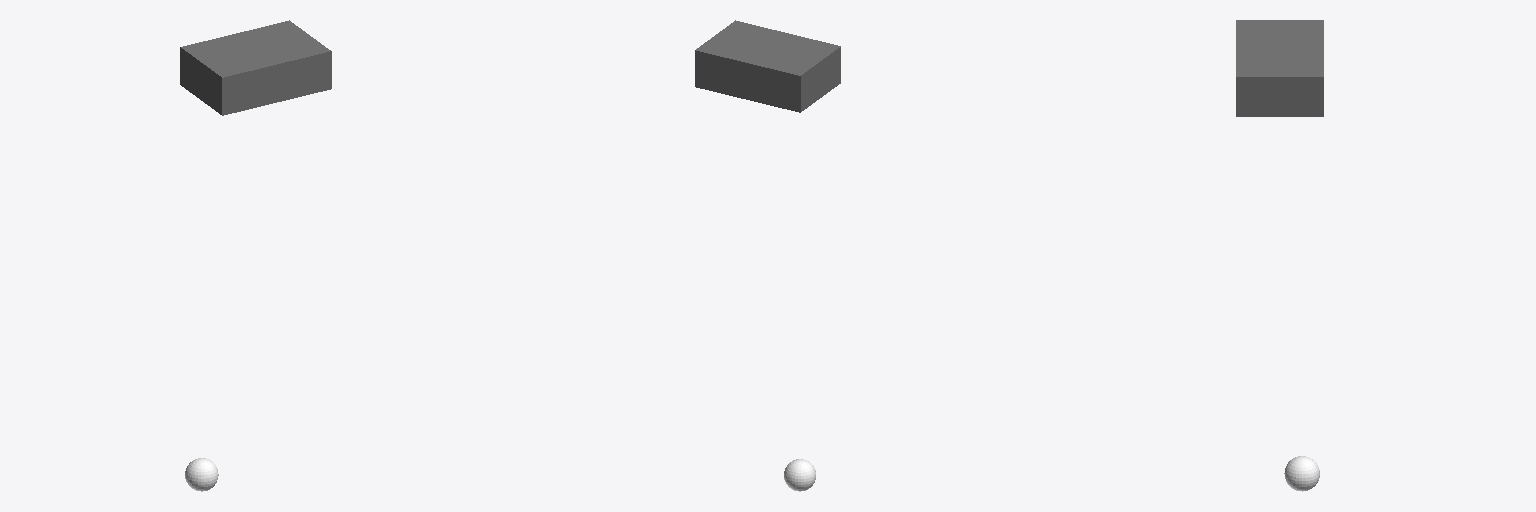
URDF robot description (dummy_bot):
<?xml version="1.0" ?>
<robot name="dummy_bot">
  


  <material name="grey">
                <color rgba="0.5 0.5 0.5 1"/>
  </material>

  <material name="white">
                <color rgba="1 1 1 1"/>
  </material>
  <gazebo>
  <plugin
    filename="libignition-gazebo-diff-drive-system.so"
    name="ignition::gazebo::systems::DiffDrive">
    <left_joint>left_wheel_joint</left_joint>
    <right_joint>right_wheel_joint</right_joint>
    <wheel_separation>0.8</wheel_separation>
    <wheel_radius>0.2</wheel_radius>
    <odom_publish_frequency>1</odom_publish_frequency>
    <topic>cmd_vel</topic>
</plugin>
  </gazebo>

  


  

  <!-- <link name="chassis">
    <visual>
      <geometry>
        <box size="1.5 1.0 0.5"/>
      </geometry>
      <material name="grey"/>
      
    </visual>
    <inertial>
      <mass value="1"/>
      <inertia ixx="0.1875" ixy="0.0" ixz="0.0" iyy="0.09" iyz="0.0" izz="0.27"/>
    </inertial>

  
  </link>

  <link name="left_wheel">
    <visual>
      <geometry>
        <cylinder length="0.3" radius="0.2"/>
      </geometry>
      <origin rpy="1.57075 0 0" xyz="0 0.65 -0.3"/>
      <material name="white"/>
    </visual>
    <inertial>
      <mass value="1"/>
      <inertia ixx="0.0175" ixy="0.0" ixz="0.0" iyy="0.0175" iyz="0.0" izz="0.02"/>
    </inertial>

    
  </link>
  <joint name="chassis_to_left_wheel" type="revolute">
    <axis xyz="0 1 0"/>
    <limit effort="1000.0" lower="-1.79769e+308" upper="1.79769e+308" velocity="0.5"/>
    <parent link="chassis"/>
    <child link="left_wheel"/>
  </joint>

  <link name="right_wheel">
    <visual>
      <geometry>
        <cylinder length="0.3" radius="0.2"/>
      </geometry>
      <origin rpy="-1.57075 0 0" xyz="0 -0.65 -0.3"/>
      <material name="white"/>
    </visual>
    <inertial>
      <mass value="1"/>
      <inertia ixx="0.0175" ixy="0.0" ixz="0.0" iyy="0.0175" iyz="0.0" izz="0.02"/>
    </inertial>

    
  </link>
  <joint name="chassis_to_right_wheel" type="revolute">
    <axis xyz="0 1 0"/>
    <limit effort="1000.0" lower="-1.79769e+308" upper="1.79769e+308" velocity="0.5"/>
    <parent link="chassis"/>
    <child link="right_wheel"/>
  </joint>

  <link name = "front_left_dummy_wheel">
    <visual>
      <geometry>
        <sphere radius = "0.2"/>
      </geometry>
      <origin rpy="0 0 0" xyz="0.6 0.25 -0.3"/>
      <material name="white"/>
    </visual>

    <inertial>
      <mass value="1"/>
      <inertia ixx="0.016" ixy="0.0" ixz="0.0" iyy="0.016" iyz="0.0" izz="0.016"/>
    </inertial>

    
  </link>

  <joint name = "chassis_to_front_left_dummy_wheel" type = "continuous">
    <parent link="chassis"/>
    <child link="front_left_dummy_wheel"/>
    <material name="white"/>
  </joint>



  <link name = "front_right_dummy_wheel">
    <visual>
      <geometry>
        <sphere radius = "0.2"/>
      </geometry>
      <origin rpy="0 0 0" xyz="0.6 -0.25 -0.3"/>
      <material name="white"/>
    </visual>

    <inertial>
      <mass value="1"/>
      <inertia ixx="0.016" ixy="0.0" ixz="0.0" iyy="0.016" iyz="0.0" izz="0.016"/>
    </inertial>
    
  </link>

  <joint name = "chassis_to_front_right_dummy_wheel" type = "continuous">
    <parent link="chassis"/>
    <child link="front_right_dummy_wheel"/>
  </joint>



  <link name = "back_right_dummy_wheel">
    <visual>
      <geometry>
        <sphere radius = "0.2"/>
      </geometry>
      <origin rpy="0 0 0" xyz="-0.6 -0.25 -0.3"/>
      <material name="white"/>
      
    </visual>
    

    <inertial>
      <mass value="1"/>
      <inertia ixx="0.016" ixy="0.0" ixz="0.0" iyy="0.016" iyz="0.0" izz="0.016"/>
    </inertial>
  </link>

  <joint name = "chassis_to_back_right_dummy_wheel" type = "continuous">
    <parent link="chassis"/>
    <child link="back_right_dummy_wheel"/>
  </joint>


  <link name = "back_left_dummy_wheel">
    <visual>
      <geometry>
        <sphere radius = "0.2"/>
      </geometry>
      <origin rpy="0 0 0" xyz="-0.6 0.25 -0.3"/>
      <material name="white"/>
    </visual>
    <collision>
      <geometry>
        <sphere radius = "0.2"/>
      </geometry>
    </collision>

    <inertial>
      <mass value="1"/>
      <inertia ixx="0.016" ixy="0.0" ixz="0.0" iyy="0.016" iyz="0.0" izz="0.016"/>
    </inertial>
  </link>

  <joint name = "chassis_to_back_left_dummy_wheel" type = "continuous">
    <parent link="chassis"/>
    <child link="back_left_dummy_wheel"/>
  </joint> -->

    <link name="block">
    <visual>
    <origin xyz="0 0 5" rpy="0 0 0" />
      <geometry>
        <box size="1.5 1.0 0.5"/>
      </geometry>
      <material name="grey"/>
      
    </visual>
    <inertial>
      <mass value="1"/>
      <inertia ixx="0.1875" ixy="0.0" ixz="0.0" iyy="0.09" iyz="0.0" izz="0.27"/>
    </inertial>

    <collision >
    <origin xyz="0 0 5" rpy="0 0 0" />
    <geometry>
        <box size="1.5 1.0 0.5"/>
      </geometry>
    </collision>
  
  </link>

  <link name = "back_left_dummy_wheel">
    <visual>
      <geometry>
        <sphere radius = "0.2"/>
      </geometry>
      <origin rpy="0 0 0" xyz="-0.6 0.25 -0.3"/>
      <material name="white"/>
    </visual>
    <collision>
      <geometry>
        <sphere radius = "0.2"/>
      </geometry>
      <origin rpy="0 0 0" xyz="-0.6 0.25 -0.3"/>
    </collision>

    <inertial>
      <mass value="1"/>
      <inertia ixx="0.016" ixy="0.0" ixz="0.0" iyy="0.016" iyz="0.0" izz="0.016"/>
    </inertial>
  </link>

  <joint name = "chassis_to_back_left_dummy_wheel" type = "continuous">
    <parent link="block"/>
    <child link="back_left_dummy_wheel"/>
  </joint> 

  <!-- <joint name = "block_to_chassis" type = "continuous">
  <parent link = "chassis"/>
  <child link = "block"/>
  <origin xyz = "0 0 0" rpy="0 0 0" />
  </joint> -->
</robot>

--- What the picture shows (computed from the rendered views, not written in the file) ---
Views: 3 orthographic renders of the robot side by side, from view 1: azimuth 30°, elevation 25°; view 2: azimuth 150°, elevation 25°; view 3: azimuth 270°, elevation 25°.
Robot: dummy_bot — 2 links, 1 joints (1 continuous); root link block; default pose: all joints at 0.
Visible links, largest first — view 1: block, back_left_dummy_wheel; view 2: block, back_left_dummy_wheel; view 3: block, back_left_dummy_wheel.
Boxes of the visible links, x1,y1,x2,y2 form: block: (180, 20, 331, 115); back_left_dummy_wheel: (185, 458, 218, 491); block: (695, 20, 840, 112); back_left_dummy_wheel: (784, 459, 815, 491); block: (1236, 20, 1323, 116); back_left_dummy_wheel: (1284, 456, 1319, 491).
Size in the robot's own frame: 1.55 by 1 by 5.75 metres.
Geometry: primitives only (box / cylinder / sphere), no mesh files.
